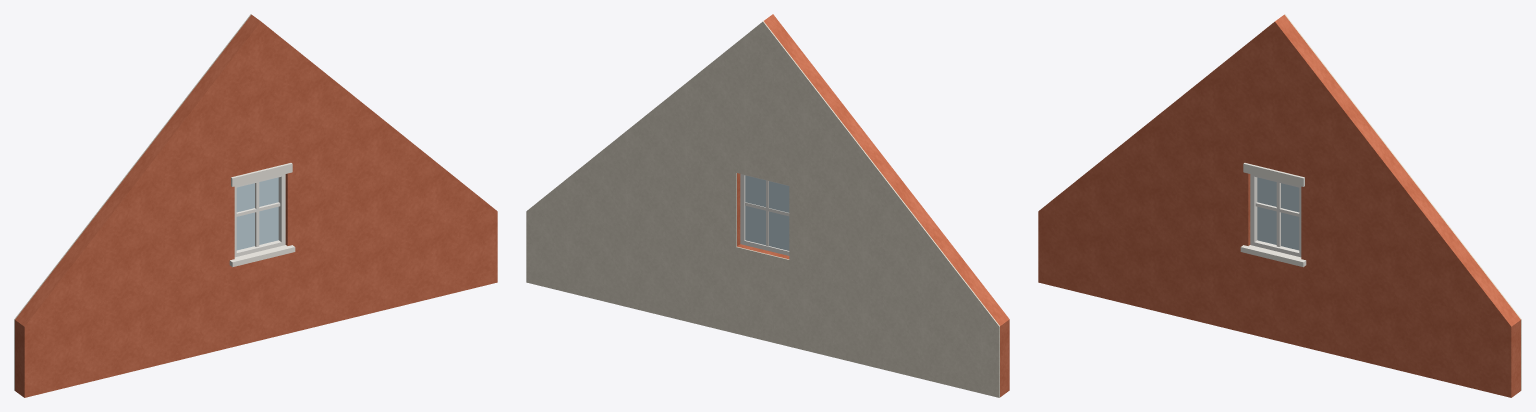
Rendered from gable_wall.glb.
3 renders of one model, left to right at view 1: azimuth 30°, elevation 25°; view 2: azimuth 150°, elevation 25°; view 3: azimuth 330°, elevation 25°, orthographic.
Visible parts, largest first — view 1: gable_wall_render, gable_wall_glass, gable_wall_frame, gable_wall_trim, gable_wall_plaster; view 2: gable_wall_plaster, gable_wall_render, gable_wall_glass, gable_wall_frame; view 3: gable_wall_render, gable_wall_glass, gable_wall_frame, gable_wall_trim, gable_wall_plaster.
Part boxes in pixels (left/top/right/bottom): gable_wall_render: left=15, top=14, right=497, bottom=397; gable_wall_glass: left=236, top=177, right=278, bottom=250; gable_wall_frame: left=234, top=174, right=285, bottom=257; gable_wall_trim: left=229, top=163, right=295, bottom=267; gable_wall_plaster: left=14, top=14, right=251, bottom=390; gable_wall_plaster: left=526, top=21, right=999, bottom=397; gable_wall_render: left=737, top=14, right=1009, bottom=397; gable_wall_glass: left=745, top=175, right=789, bottom=250; gable_wall_frame: left=740, top=174, right=789, bottom=255; gable_wall_render: left=1038, top=14, right=1520, bottom=397; gable_wall_glass: left=1257, top=177, right=1299, bottom=250; gable_wall_frame: left=1250, top=174, right=1301, bottom=257; gable_wall_trim: left=1240, top=163, right=1306, bottom=267; gable_wall_plaster: left=1284, top=14, right=1521, bottom=390.
Size of the model in its own units: 8 by 5.15 by 0.38.
5 materials, 2 textured.
